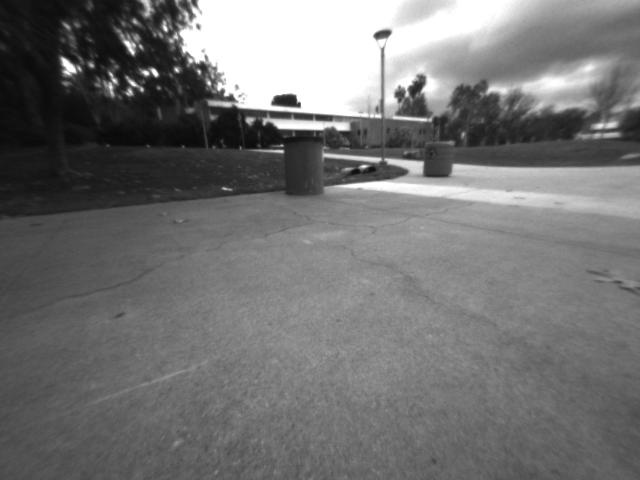trashcan: (285, 134, 326, 194), (426, 139, 453, 178)
